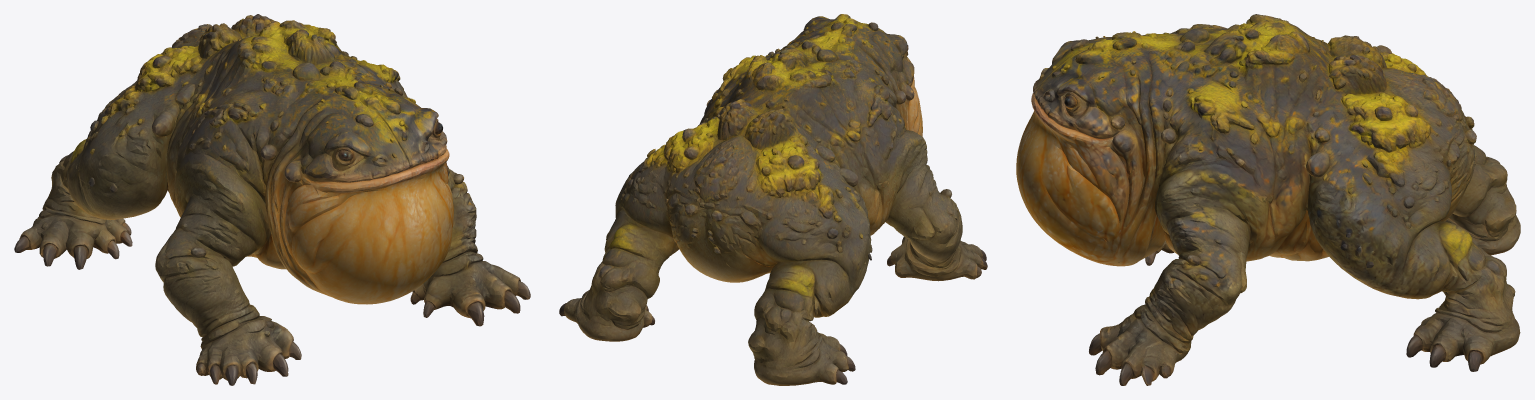
The model's file is source.glb.
The picture shows the model from 3 angles, left to right: view 1: azimuth 30°, elevation 25°; view 2: azimuth 150°, elevation 25°; view 3: azimuth 270°, elevation 25°; orthographic projection. The views are drawn at different scales.
Parts seen in each view (by area): view 1: model; view 2: model; view 3: model.
Part boxes in pixels (x1,y1,x2,y2): model: [14, 14, 530, 385]; model: [559, 14, 987, 385]; model: [1016, 14, 1520, 385].
Size of the model in its own units: 1.56 by 1.13 by 1.9.
1 material, 1 textured.
